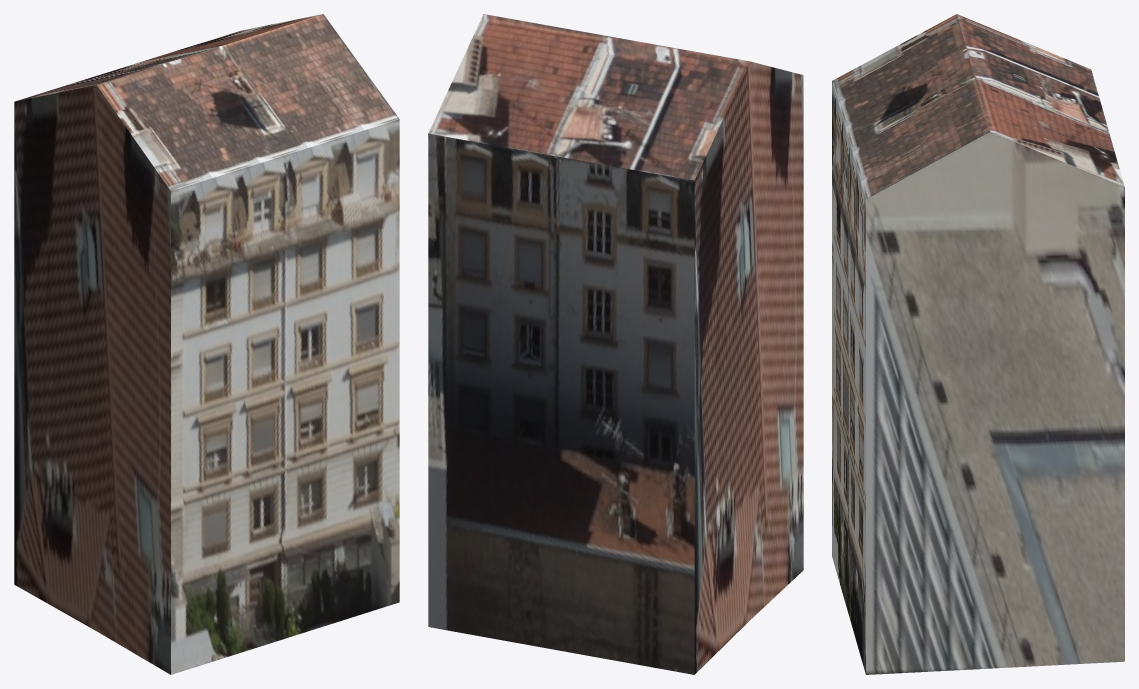
The picture shows the model from 3 angles, left to right: view 1: azimuth 30°, elevation 25°; view 2: azimuth 150°, elevation 25°; view 3: azimuth 270°, elevation 25°; orthographic projection. The views are drawn at different scales.
Visible parts, largest first — view 1: Z_UP; view 2: Z_UP; view 3: Z_UP.
Part boxes in pixels (<box>): Z_UP: <box>14,14,399,674</box>; Z_UP: <box>428,14,803,674</box>; Z_UP: <box>832,14,1124,674</box>.
Size of the model in its own units: 13.88 by 26.73 by 13.19.
2 materials, 1 textured.
